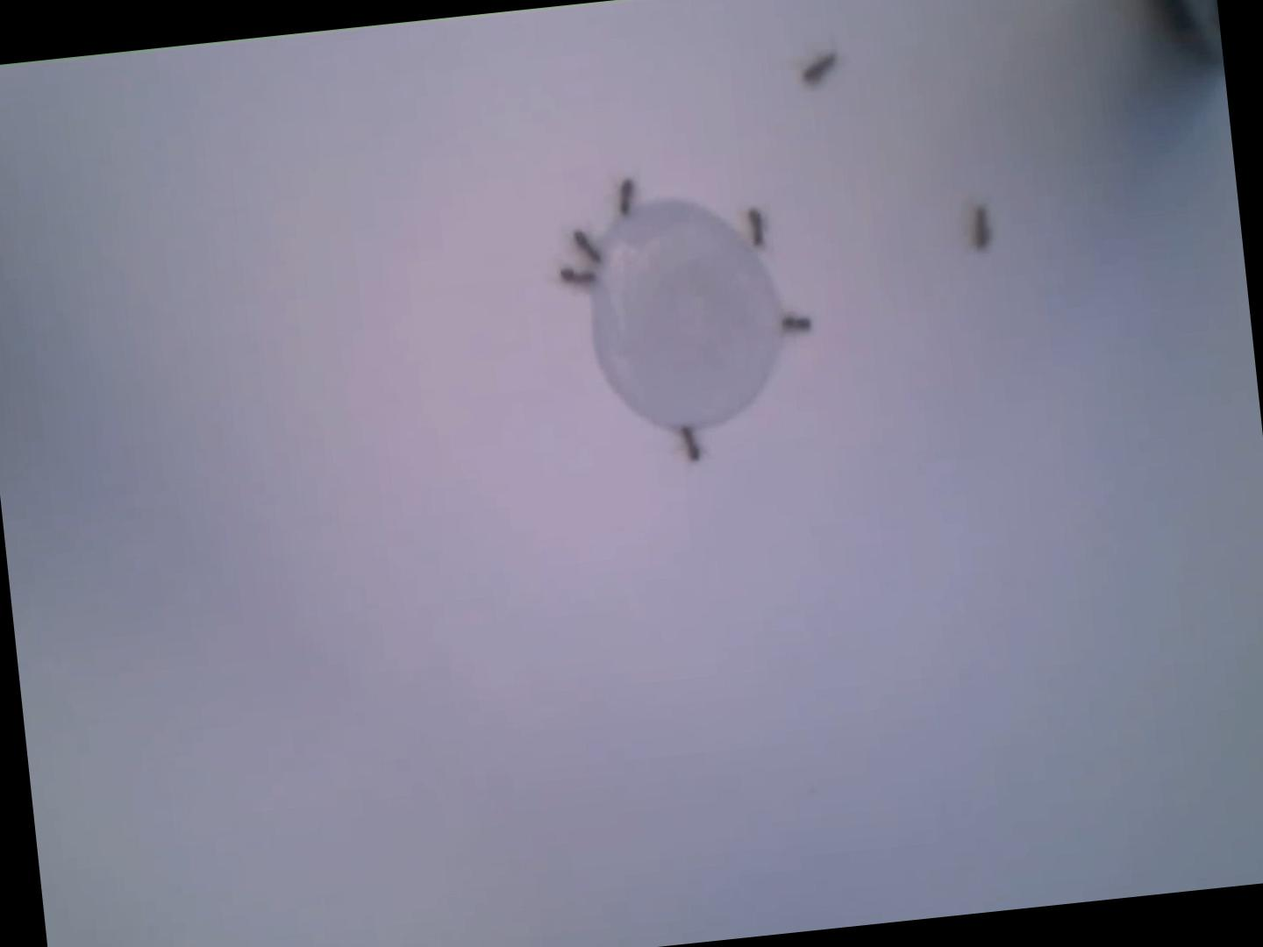Ant: (798, 51, 835, 85), (964, 206, 989, 252), (570, 228, 597, 267), (556, 264, 593, 289), (611, 177, 634, 217), (742, 208, 764, 248), (677, 425, 699, 463), (776, 312, 808, 335)
